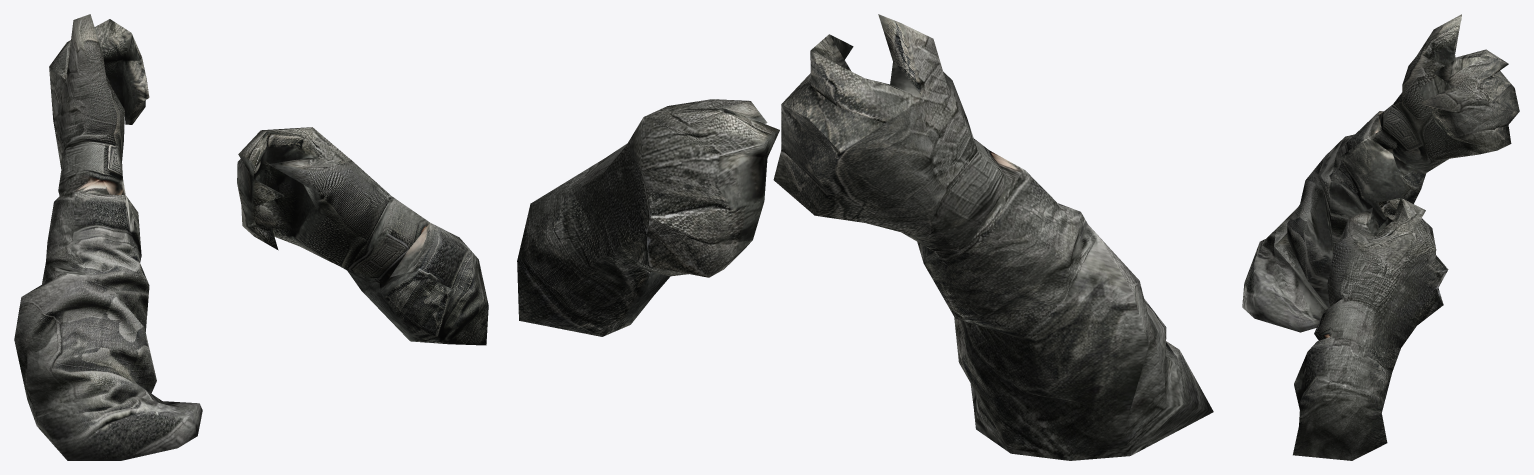
File: first-person-arms.glb
3 views of the same model, side by side, from view 1: azimuth 30°, elevation 25°; view 2: azimuth 150°, elevation 25°; view 3: azimuth 270°, elevation 25° (orthographic). The views are drawn at different scales.
Parts seen in each view (by area): view 1: tripo_part_0, tripo_part_1, tripo_part_2, tripo_part_3, tripo_part_6, tripo_part_4, tripo_part_5; view 2: tripo_part_0, tripo_part_2, tripo_part_4, tripo_part_3, tripo_part_1, tripo_part_5, tripo_part_6; view 3: tripo_part_1, tripo_part_0, tripo_part_2, tripo_part_3, tripo_part_6, tripo_part_5, tripo_part_4.
Part boxes in pixels (left/top/right/bottom): tripo_part_0: left=14, top=179, right=156, bottom=425; tripo_part_1: left=241, top=127, right=429, bottom=290; tripo_part_2: left=49, top=14, right=149, bottom=201; tripo_part_3: left=361, top=222, right=488, bottom=345; tripo_part_6: left=37, top=384, right=202, bottom=460; tripo_part_4: left=237, top=127, right=308, bottom=229; tripo_part_5: left=49, top=19, right=141, bottom=107; tripo_part_0: left=917, top=170, right=1183, bottom=460; tripo_part_2: left=773, top=14, right=1025, bottom=248; tripo_part_4: left=625, top=108, right=779, bottom=245; tripo_part_3: left=517, top=158, right=670, bottom=336; tripo_part_1: left=572, top=99, right=767, bottom=295; tripo_part_5: left=781, top=34, right=922, bottom=152; tripo_part_6: left=970, top=341, right=1213, bottom=455; tripo_part_1: left=1314, top=198, right=1448, bottom=348; tripo_part_0: left=1274, top=111, right=1426, bottom=307; tripo_part_2: left=1368, top=14, right=1519, bottom=172; tripo_part_3: left=1293, top=334, right=1400, bottom=460; tripo_part_6: left=1242, top=229, right=1327, bottom=332; tripo_part_5: left=1433, top=49, right=1510, bottom=154; tripo_part_4: left=1373, top=198, right=1447, bottom=268.
Bounding box in the file's own units: 0.9827 × 0.6993 × 0.5795.
7 materials, 7 textured.
